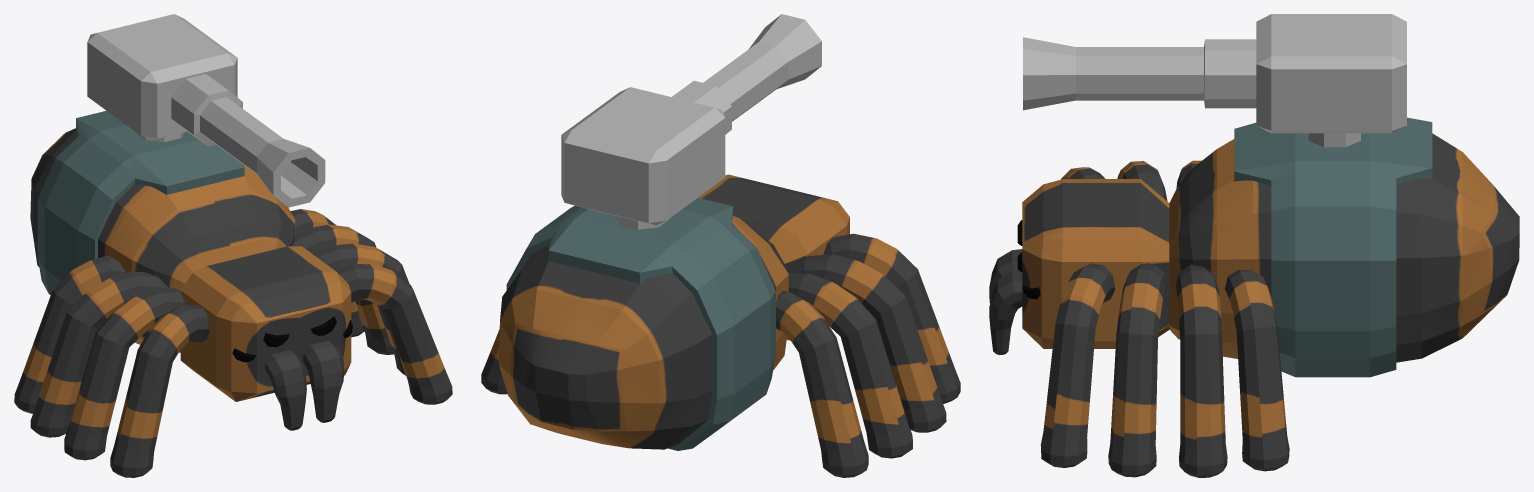
Rendered from BigT Textured.fbx.
The picture shows the model from 3 angles, left to right: view 1: azimuth 30°, elevation 25°; view 2: azimuth 150°, elevation 25°; view 3: azimuth 270°, elevation 25°; orthographic projection. The views are drawn at different scales.
Parts seen in each view (by area): view 1: BigT_Body, Gun_BigT, BigT_Leg_Bent006, BigT_Leg_Bent005, BigT_Leg_Bent007, BigT_Leg_Bent001, BigT_Leg_Bent008, BigT_Leg_Bent003, BigT_Leg_Bent002, BigT_Leg_Bent004; view 2: BigT_Body, Gun_BigT, BigT_Leg_Bent007, BigT_Leg_Bent006, BigT_Leg_Bent008, BigT_Leg_Bent005, BigT_Leg_Bent004; view 3: BigT_Body, Gun_BigT, BigT_Leg_Bent002, BigT_Leg_Bent003, BigT_Leg_Bent001, BigT_Leg_Bent004, BigT_Leg_Bent006.
Boxes of the visible parts, <box> form: BigT_Body: <box>30,110,352,430</box>; Gun_BigT: <box>87,14,325,207</box>; BigT_Leg_Bent006: <box>64,288,185,460</box>; BigT_Leg_Bent005: <box>110,304,209,477</box>; BigT_Leg_Bent007: <box>30,271,168,437</box>; BigT_Leg_Bent001: <box>335,264,452,404</box>; BigT_Leg_Bent008: <box>14,255,125,413</box>; BigT_Leg_Bent003: <box>292,224,393,354</box>; BigT_Leg_Bent002: <box>312,243,409,375</box>; BigT_Leg_Bent004: <box>290,209,364,337</box>; BigT_Body: <box>498,174,849,450</box>; Gun_BigT: <box>561,14,821,225</box>; BigT_Leg_Bent007: <box>788,273,912,458</box>; BigT_Leg_Bent006: <box>788,254,946,432</box>; BigT_Leg_Bent008: <box>776,291,868,477</box>; BigT_Leg_Bent005: <box>823,233,960,403</box>; BigT_Leg_Bent004: <box>481,329,507,394</box>; BigT_Body: <box>989,117,1519,377</box>; Gun_BigT: <box>1023,14,1406,133</box>; BigT_Leg_Bent002: <box>1108,264,1167,477</box>; BigT_Leg_Bent003: <box>1175,265,1227,477</box>; BigT_Leg_Bent001: <box>1040,263,1114,467</box>; BigT_Leg_Bent004: <box>1225,269,1289,471</box>; BigT_Leg_Bent006: <box>1117,161,1167,200</box>.
Size of the model in its own units: 228 by 179 by 250.
Materials: 3 (3 with a texture image).
